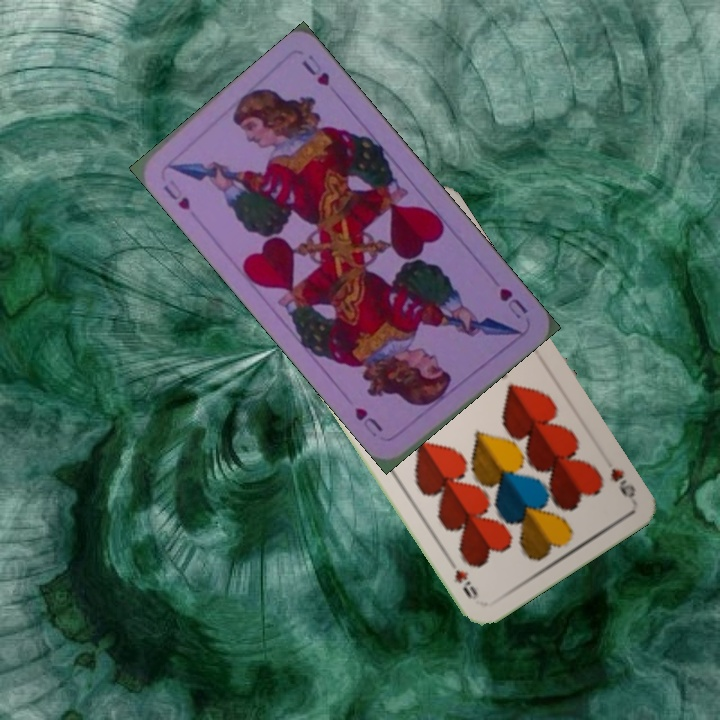H9: (605, 464, 638, 501)
HU: (495, 283, 531, 322), (159, 175, 193, 213)
